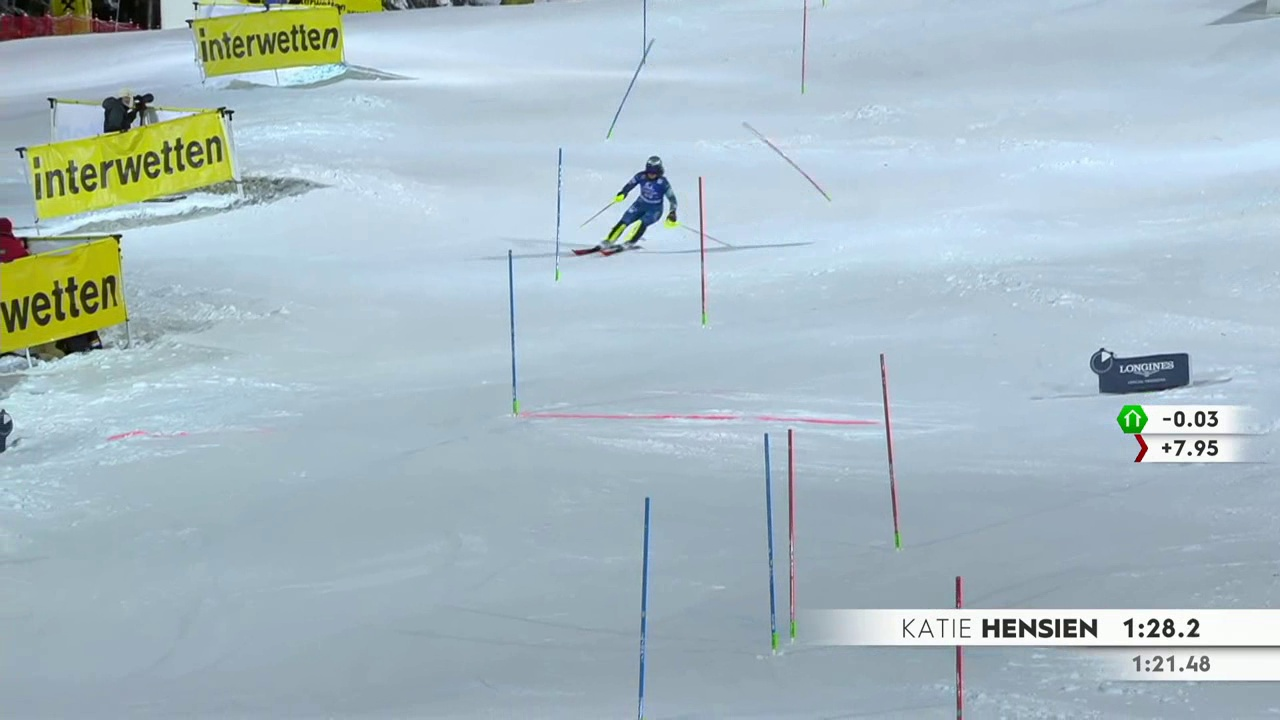interwetten: (21, 116, 243, 221)
raiffeisen: (2, 254, 121, 375), (190, 8, 343, 75)
